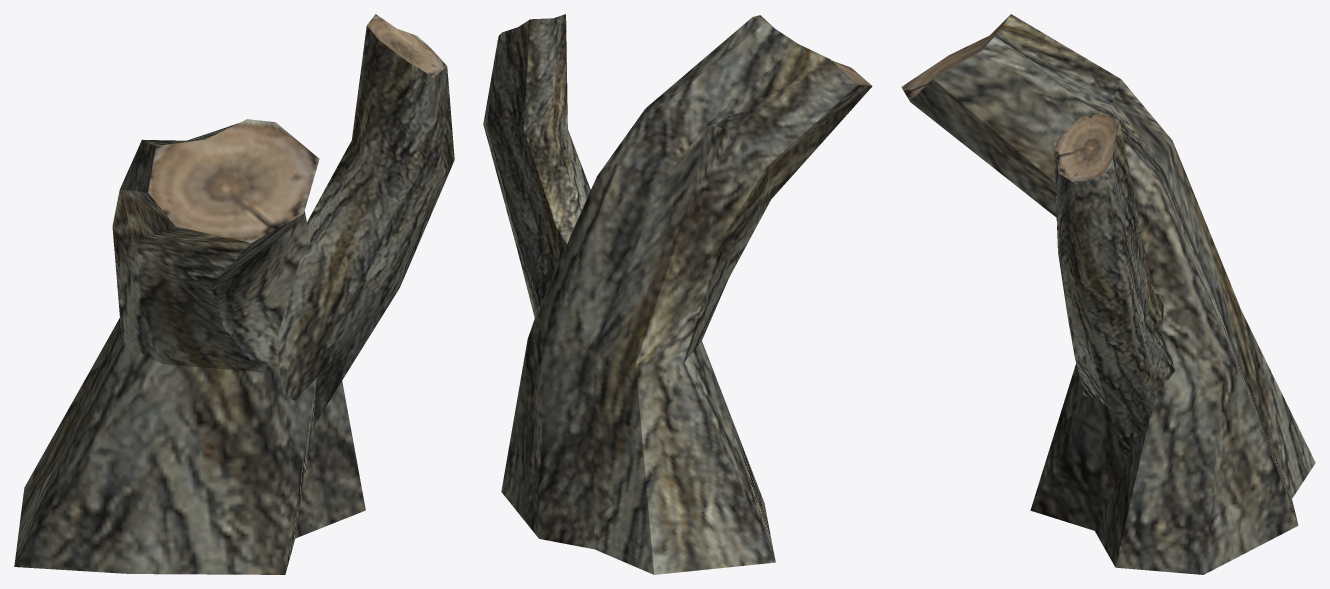
File: Pen_2.fbx
3 views of the same model, side by side, from view 1: azimuth 30°, elevation 25°; view 2: azimuth 150°, elevation 25°; view 3: azimuth 270°, elevation 25° (orthographic). The views are drawn at different scales.
Visible parts, largest first — view 1: Detal324; view 2: Detal324; view 3: Detal324.
Part boxes in pixels (x1,y1,x2,y2): Detal324: (14,14,454,574); Detal324: (483,14,872,574); Detal324: (901,14,1315,574).
Size of the model in its own units: 671 by 858 by 692.
